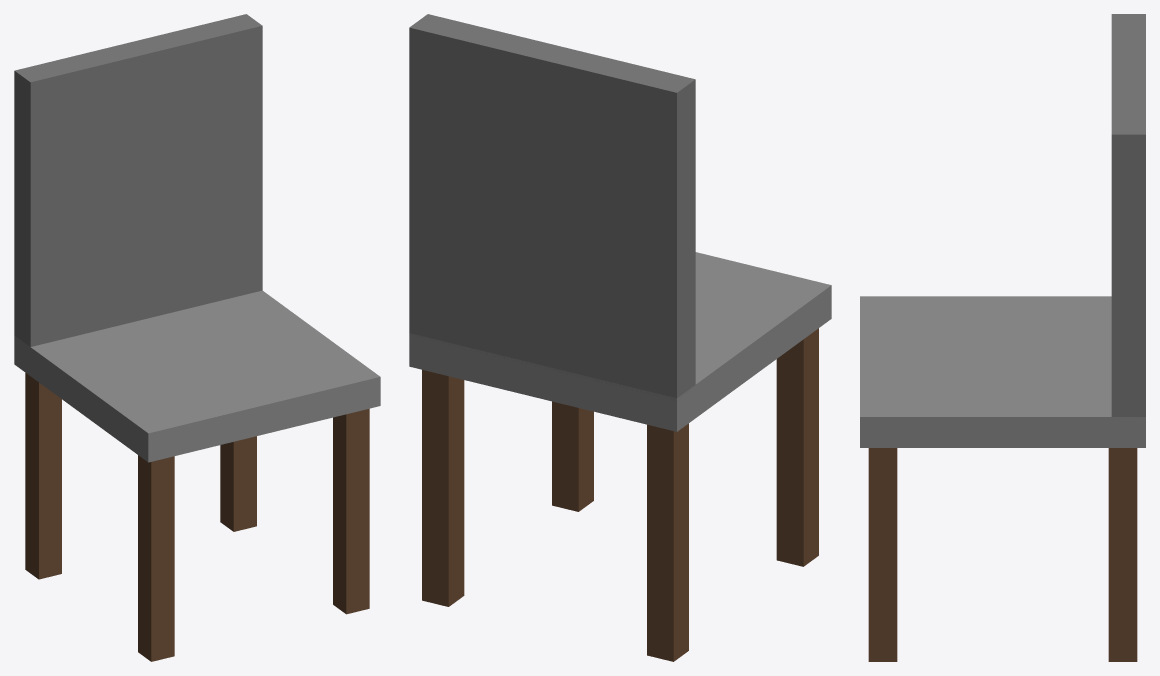
The model's file is chair_fabric.glb.
The picture shows the model from 3 angles, left to right: view 1: azimuth 30°, elevation 25°; view 2: azimuth 150°, elevation 25°; view 3: azimuth 270°, elevation 25°; orthographic projection. The views are drawn at different scales.
Visible parts, largest first — view 1: chair_fabric; view 2: chair_fabric; view 3: chair_fabric.
Boxes of the visible parts, <box> form: chair_fabric: <box>14,14,380,661</box>; chair_fabric: <box>409,14,831,661</box>; chair_fabric: <box>860,14,1145,661</box>.
Bounding box in the file's own units: 0.5 × 1.02 × 0.5.
